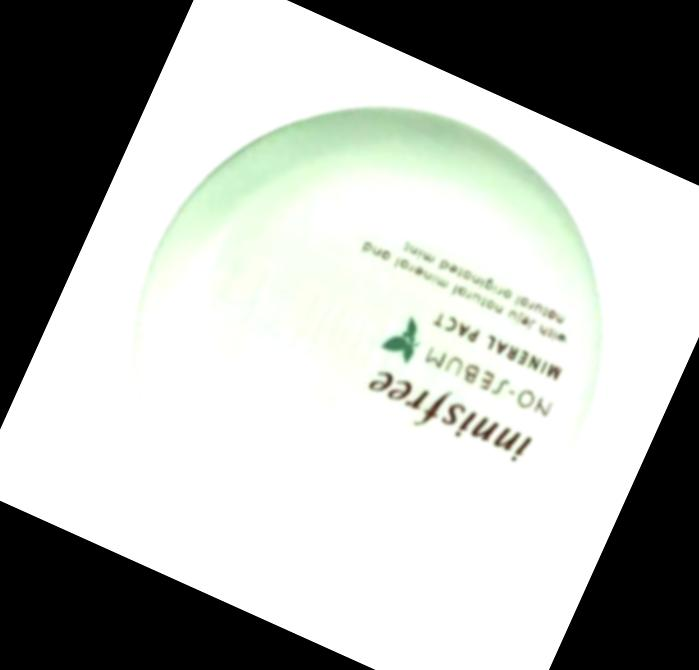cosmetic: (52, 24, 681, 660)
